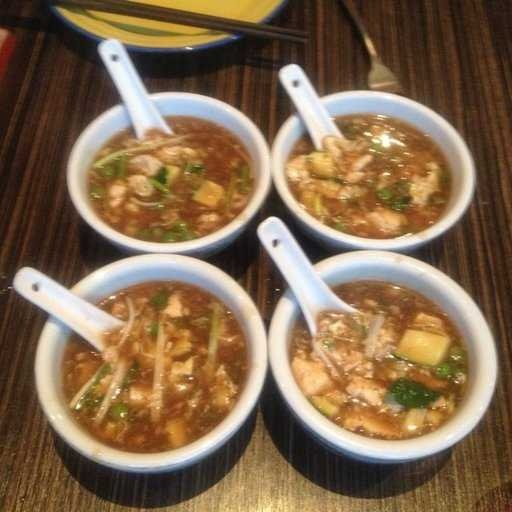soup: (43, 270, 249, 452), (278, 267, 474, 441), (73, 101, 254, 240), (287, 101, 454, 222)
